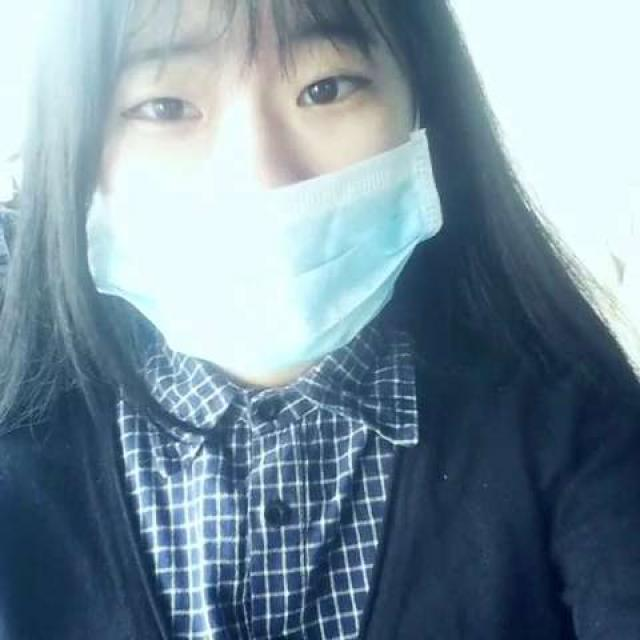mask: (90, 0, 410, 365)
